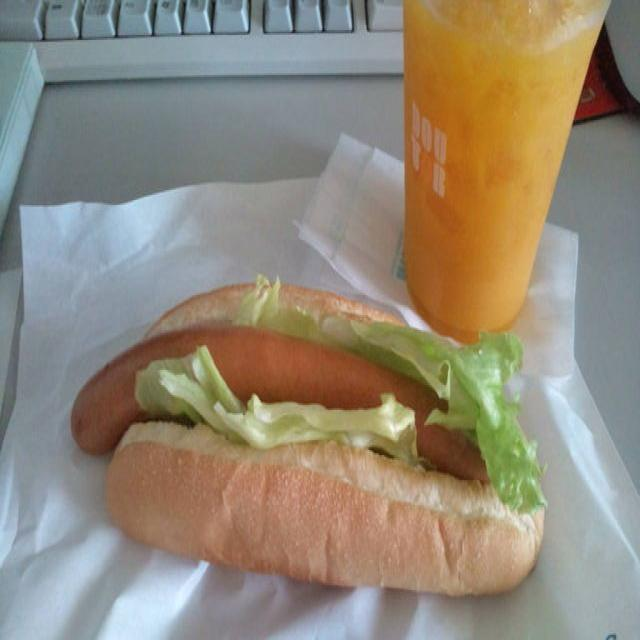Hot Dog: (70, 266, 548, 600)
